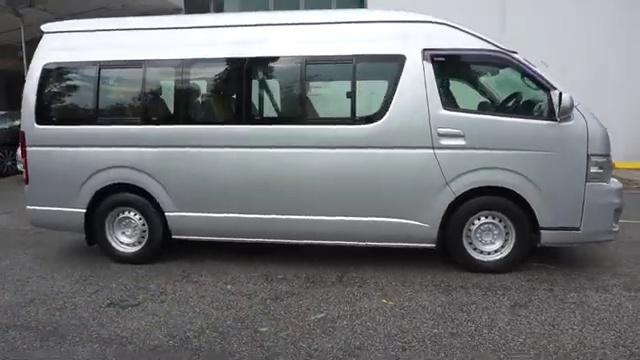van: (19, 18, 640, 267)
